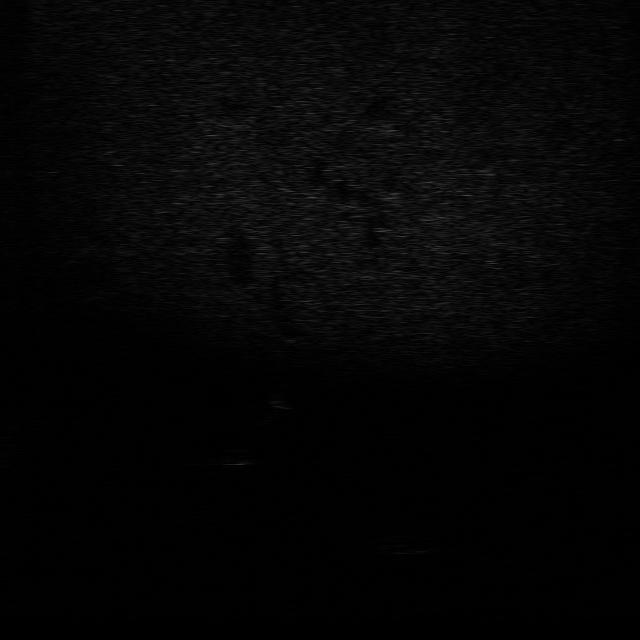ball: (218, 445, 262, 470)
circle cage: (369, 528, 436, 558)
human body: (251, 371, 294, 427)
